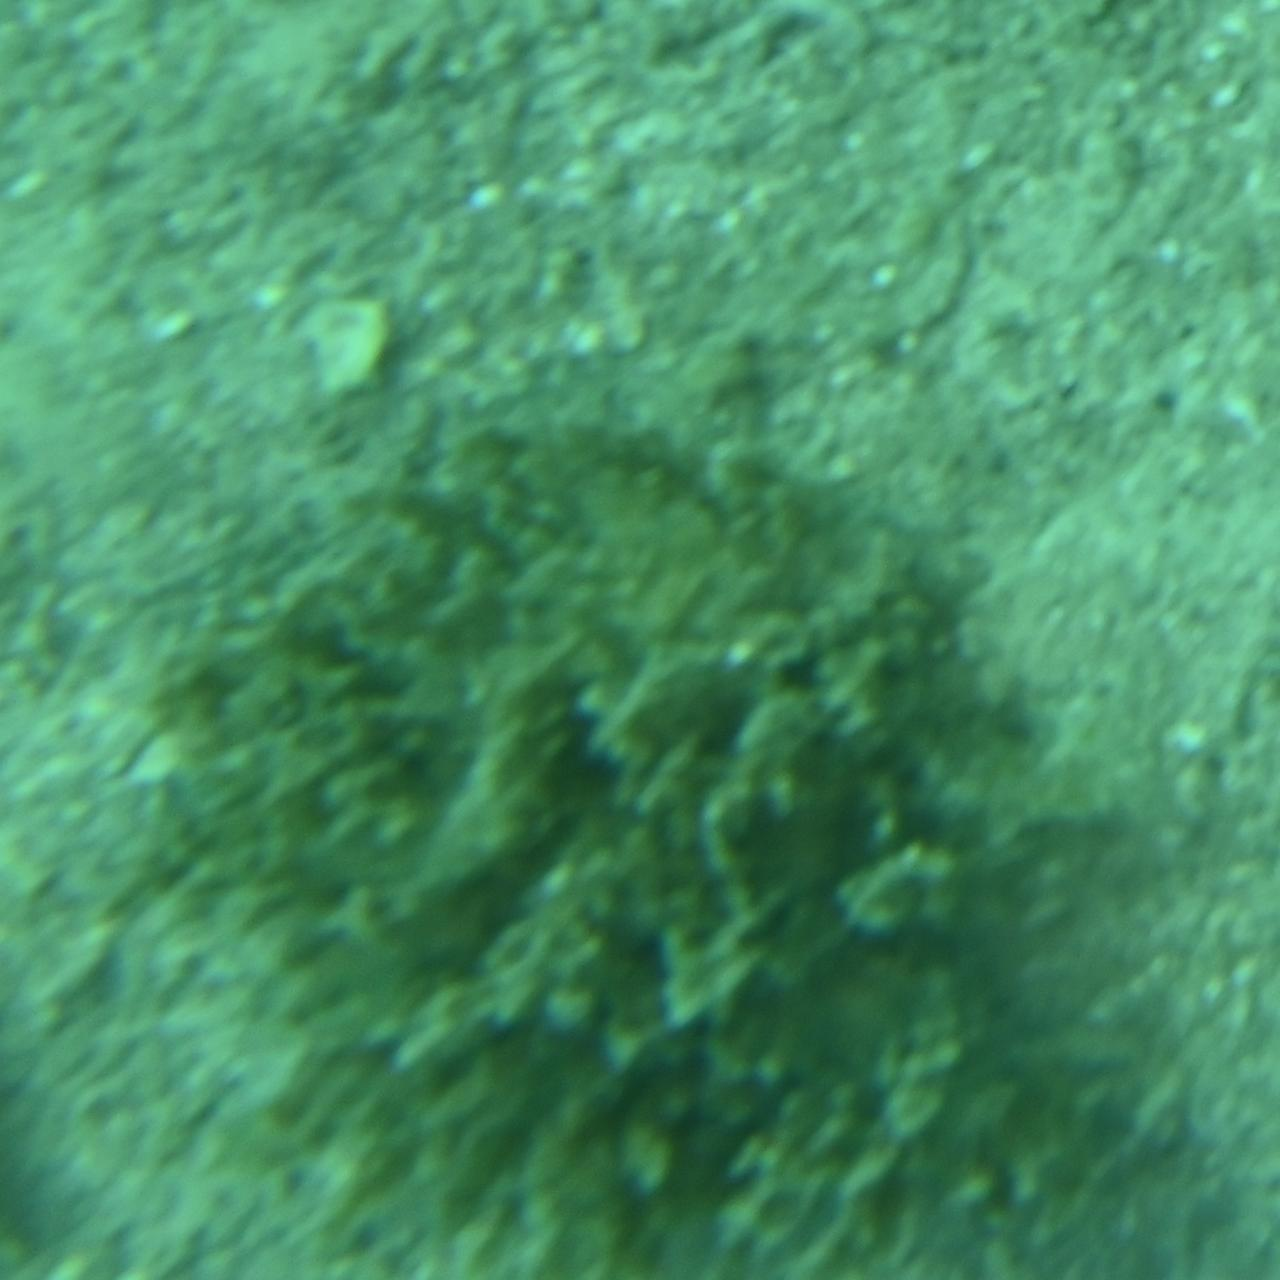Phaeophyceae -cfr Cystoseira-: (154, 407, 1126, 1280)
